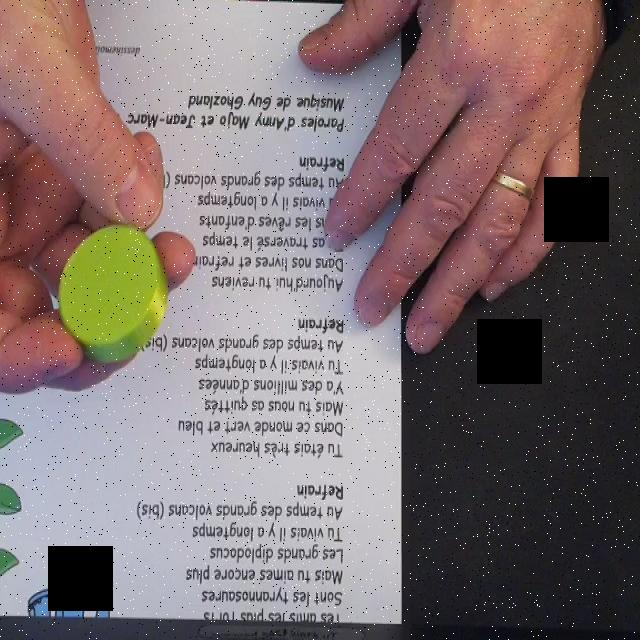round: (57, 224, 167, 363)
